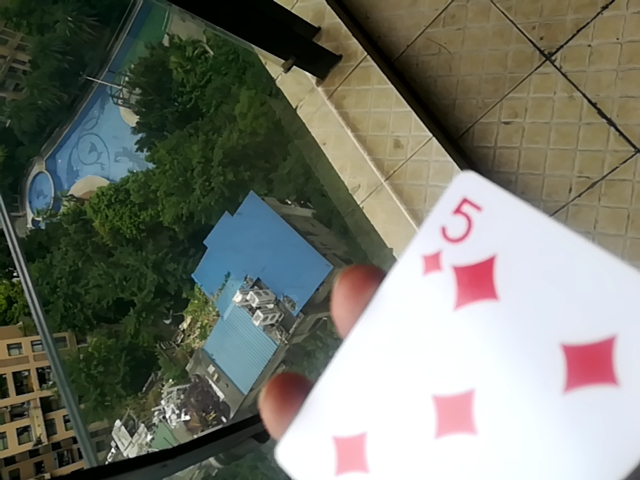fk 5: (255, 167, 640, 480)
